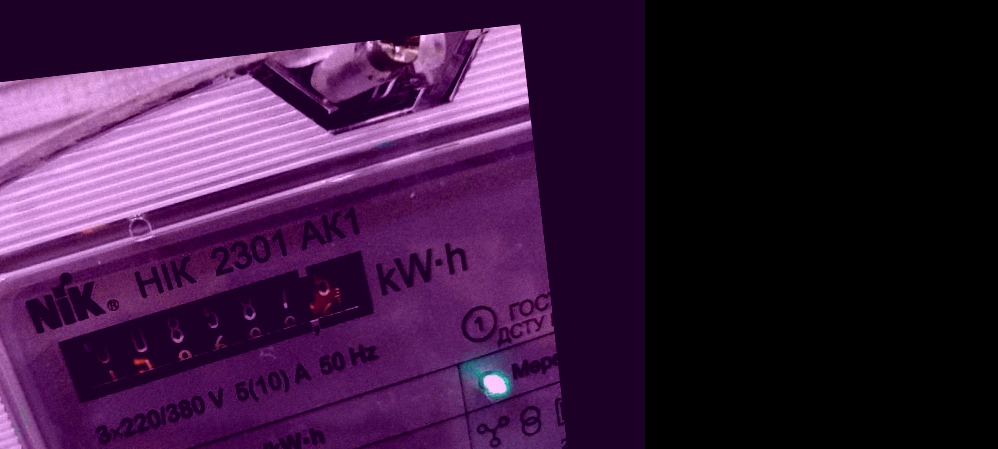0: (123, 319, 152, 356), (86, 331, 115, 366)
5: (197, 298, 223, 331), (308, 264, 333, 297)
6: (317, 298, 336, 317)
7: (270, 277, 296, 313)
8: (161, 311, 189, 345), (233, 288, 260, 323)
screen: (43, 246, 402, 406)
